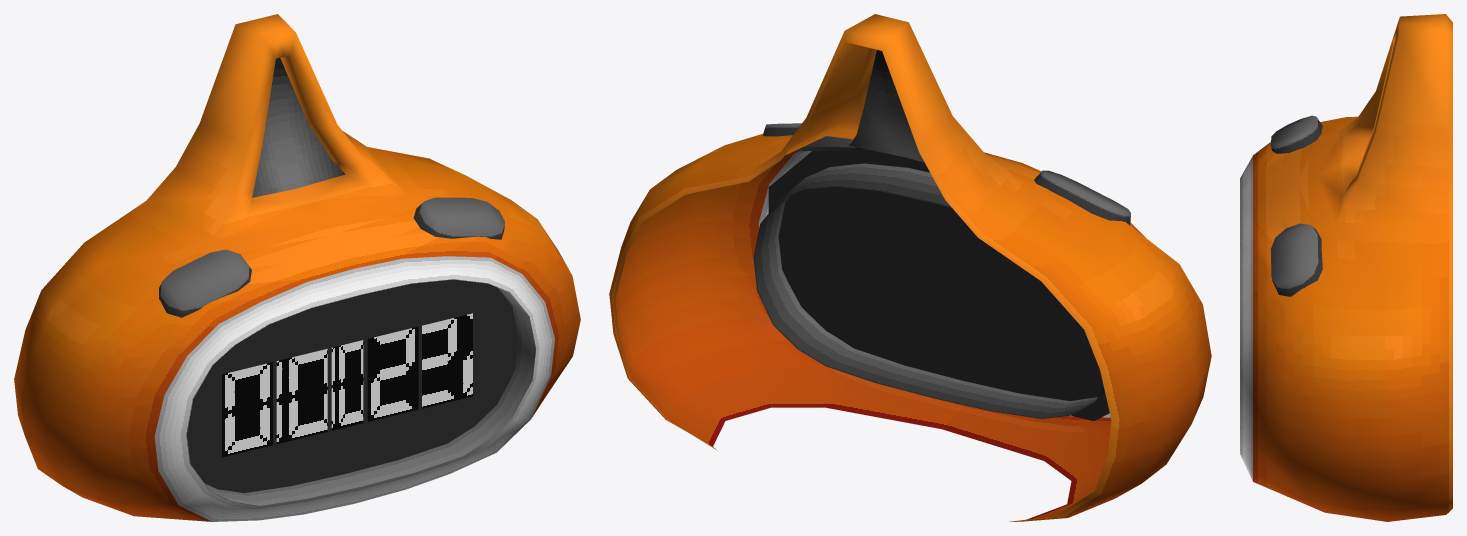
File: rmk_fut_clockD.dae
3 views of the same model, side by side, from view 1: azimuth 30°, elevation 25°; view 2: azimuth 150°, elevation 25°; view 3: azimuth 270°, elevation 25° (orthographic). The views are drawn at different scales.
Visible parts, largest first — view 1: rmk_fut_clockD; view 2: rmk_fut_clockD; view 3: rmk_fut_clockD.
Part boxes in pixels (<box>): rmk_fut_clockD: <box>14,14,580,521</box>; rmk_fut_clockD: <box>609,14,1211,521</box>; rmk_fut_clockD: <box>1240,14,1452,521</box>.
Bounding box in the file's own units: 48.87 × 37.63 × 17.53.
3 materials, 3 textured.
